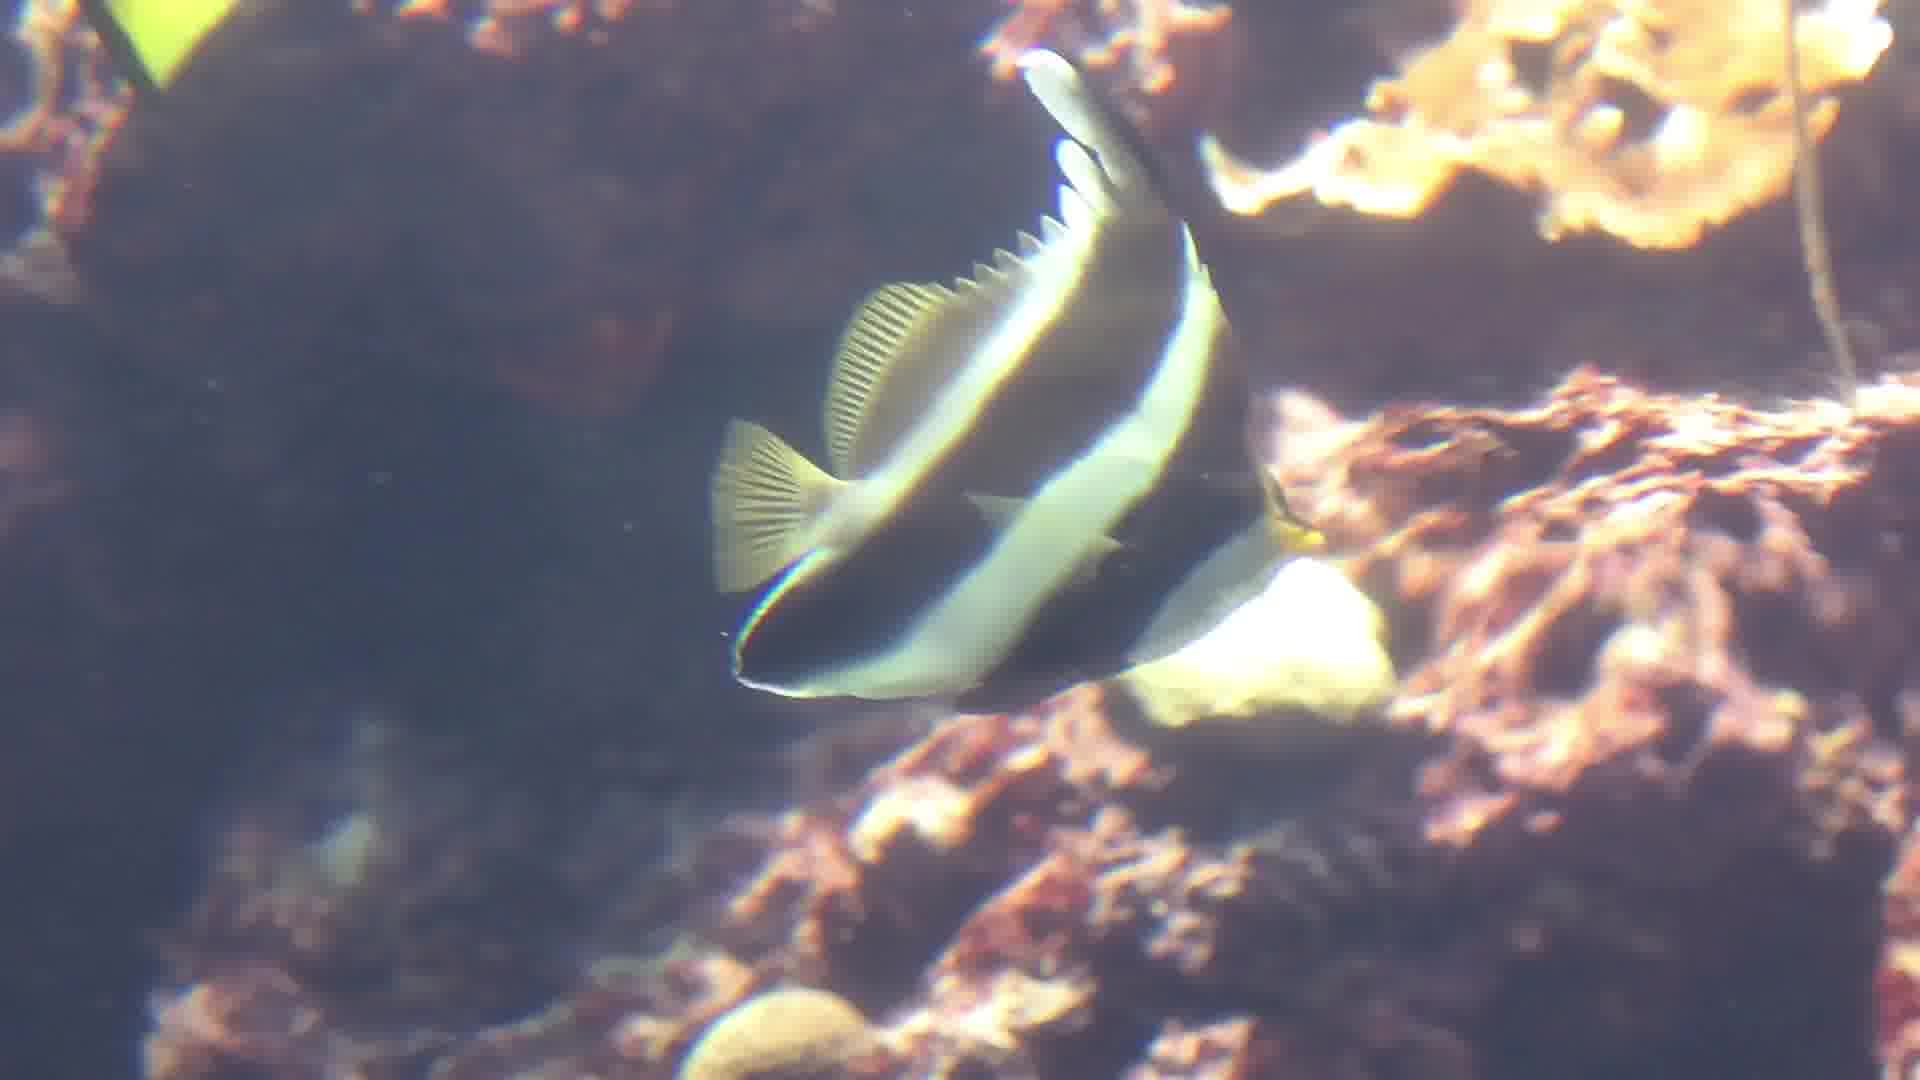Heniochus chrysostomus: (680, 3, 1354, 785)
